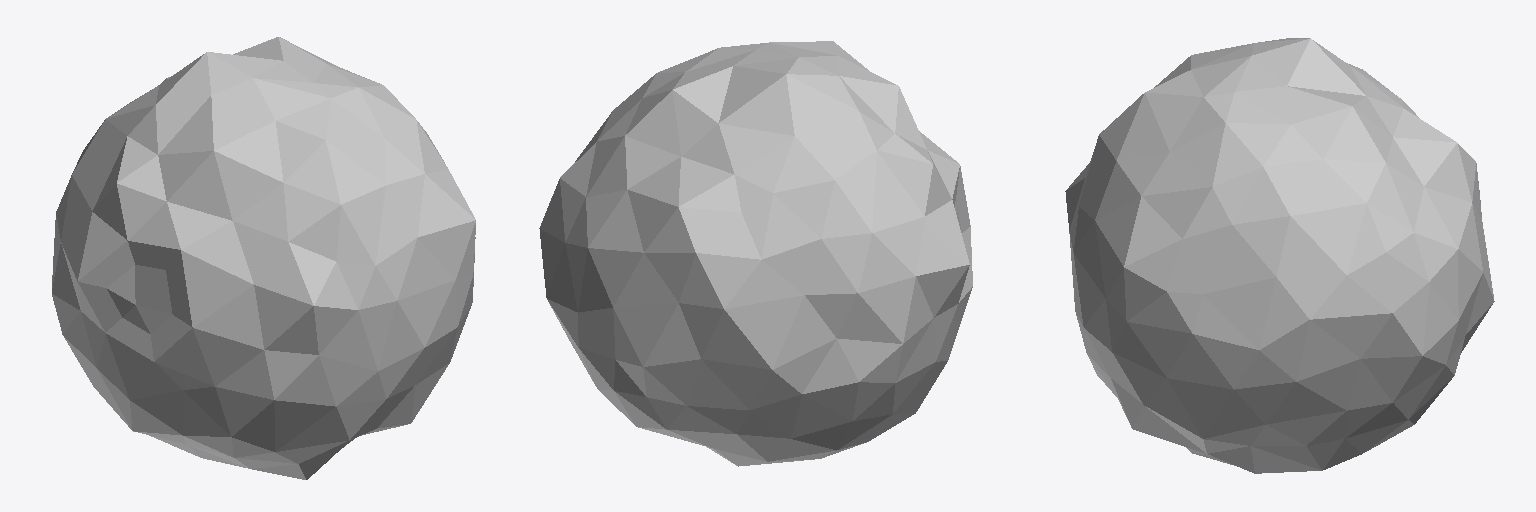
The model's file is mercury.obj.
The picture shows the model from 3 angles: view 1: azimuth 30°, elevation 25°; view 2: azimuth 150°, elevation 25°; view 3: azimuth 270°, elevation 25°; orthographic projection.
Visible parts, largest first — view 1: Mercury; view 2: Mercury; view 3: Mercury.
Boxes of the visible parts, x1,y1,x2,y2 form: Mercury: [52, 37, 475, 479]; Mercury: [539, 41, 972, 466]; Mercury: [1065, 38, 1494, 473].
Size of the model in its own units: 2.12 by 2.14 by 2.07.